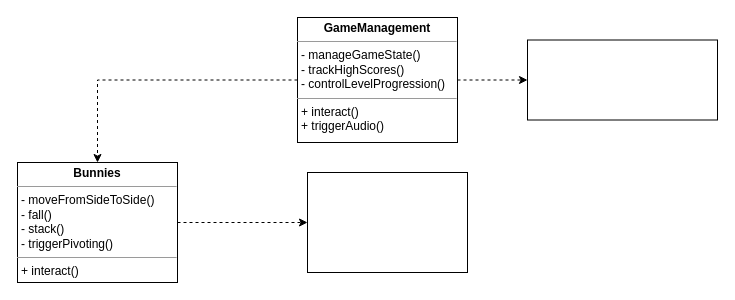
The diagram is 735 pixels wide and 300 high, and some of its shapes have lost their labels. The shapes that lost their labels are listed below. From the top down, each one's centre as x and y in pixels, then its label:
At [622,79]: "Audio - playBackgroundMusic() + interact()".
At [387,222]: "Pivoting - causePivot() - increaseDifficulty + interact()".
